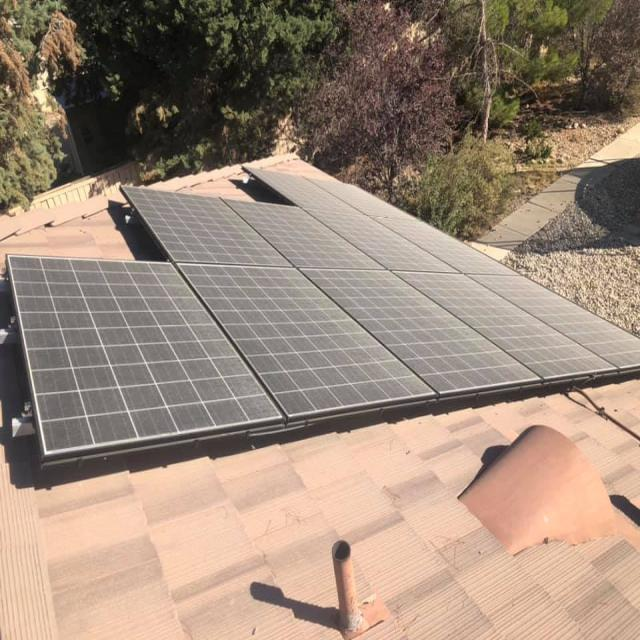dust-solar-panel: (11, 164, 640, 458)
